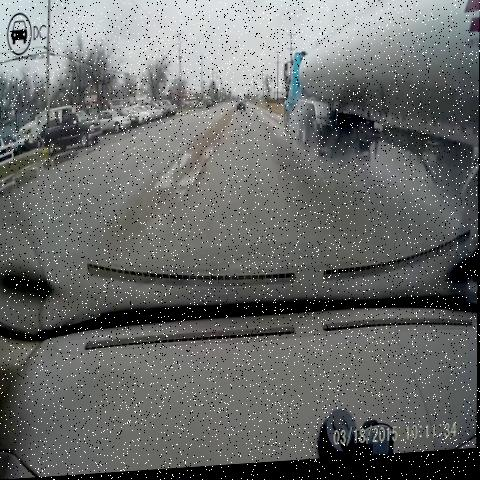pothole: (150, 135, 222, 207), (230, 118, 248, 139)
